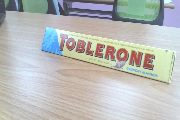Chocolate: (37, 19, 180, 90)
